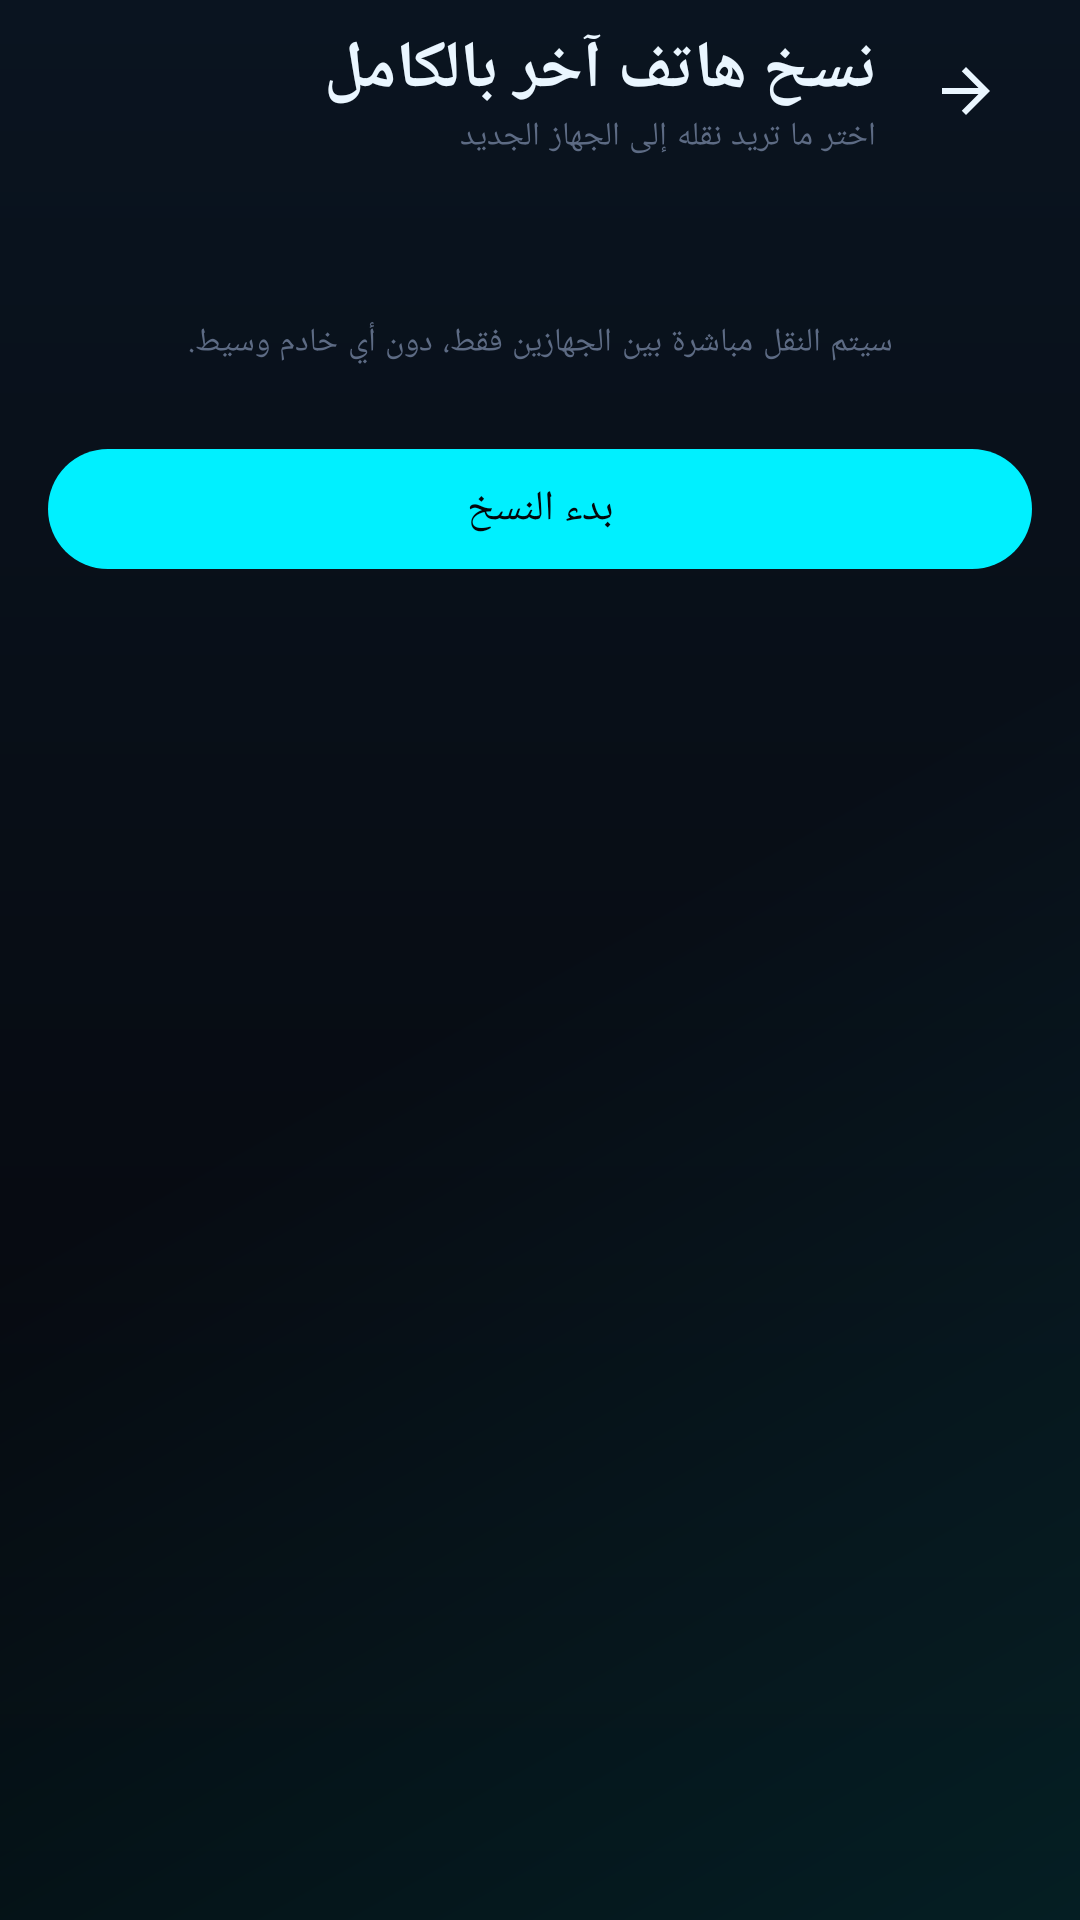

Icon bounding boxes for this 1080w x 1920h phone screenshot, format (left=x1, top=y1, right=x2, bottom=y2):
رجوع: (left=942, top=67, right=990, bottom=115)
